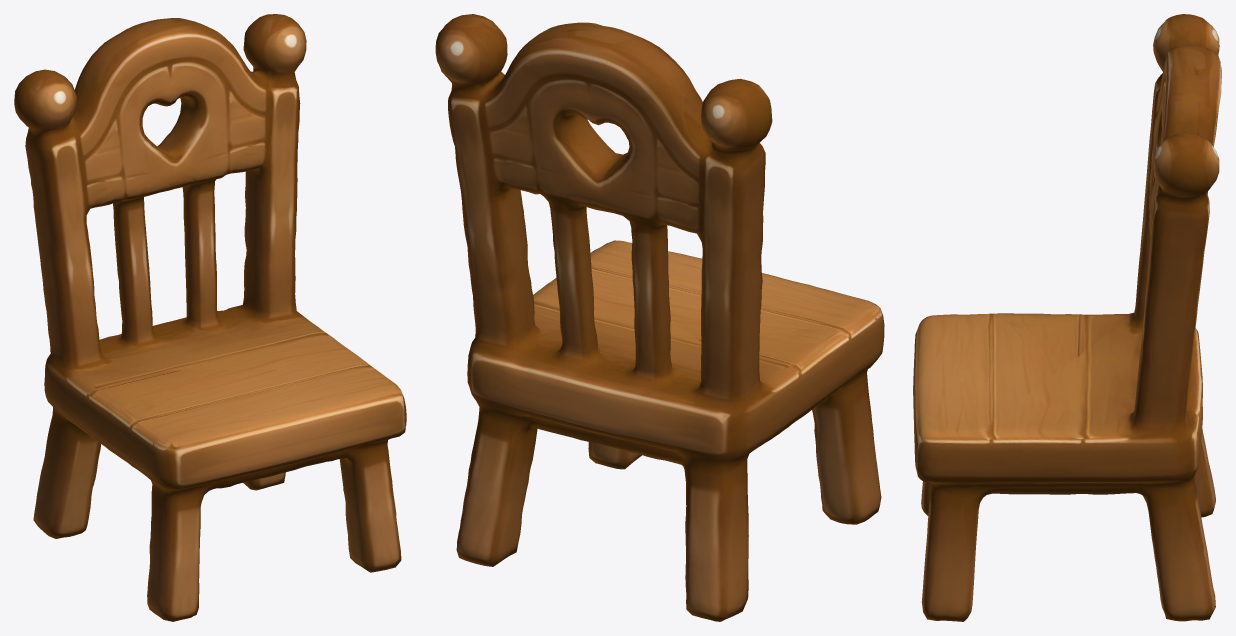
File: Wood_Heart_chair.glb
The picture shows the model from 3 angles, left to right: view 1: azimuth 30°, elevation 25°; view 2: azimuth 150°, elevation 25°; view 3: azimuth 270°, elevation 25°; orthographic projection. The views are drawn at different scales.
Visible parts, largest first — view 1: RETOPO; view 2: RETOPO; view 3: RETOPO.
Boxes of the visible parts, x1,y1,x2,y2 form: RETOPO: (14,14,406,621); RETOPO: (435,14,884,621); RETOPO: (913,14,1221,621).
Bounding box in the file's own units: 0.609 × 0.9859 × 0.5439.
Materials: 1 (1 with a texture image).
